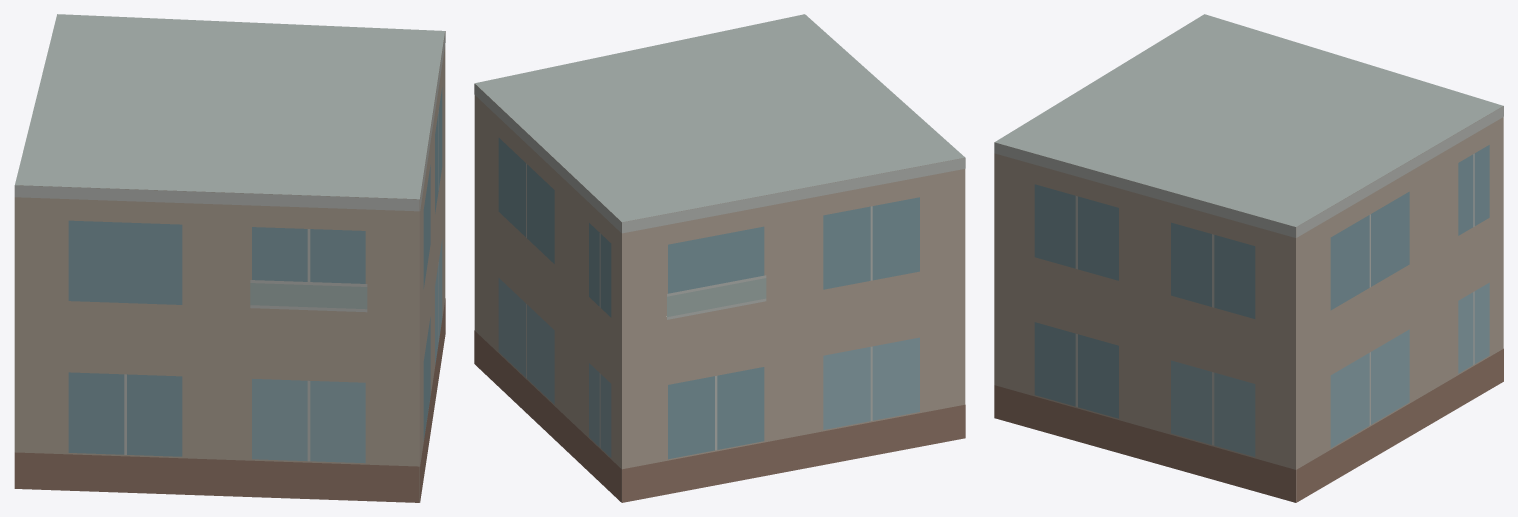
The model's file is survey-upis-32897803.glb.
The picture shows the model from 3 angles, left to right: view 1: azimuth 30°, elevation 25°; view 2: azimuth 150°, elevation 25°; view 3: azimuth 270°, elevation 25°; orthographic projection. The views are drawn at different scales.
Visible parts, largest first — view 1: survey-upis-32897803.tmp; view 2: survey-upis-32897803.tmp; view 3: survey-upis-32897803.tmp.
Part boxes in pixels (x1,y1,x2,y2): survey-upis-32897803.tmp: [14, 14, 445, 502]; survey-upis-32897803.tmp: [474, 14, 965, 502]; survey-upis-32897803.tmp: [994, 14, 1503, 502].
Size of the model in its own units: 10.12 by 6.1 by 10.22.
